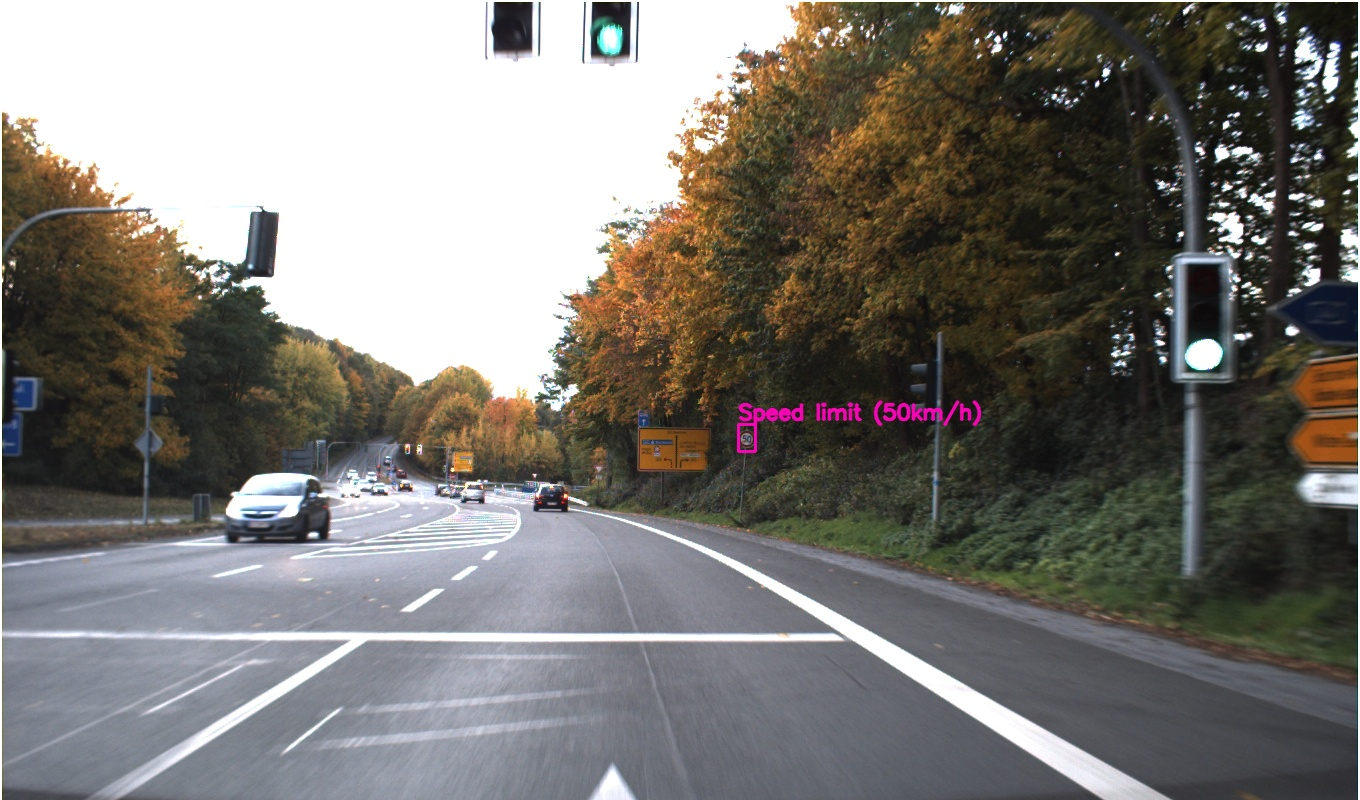Speed limit (50km/h): (58, 243, 164, 345)
